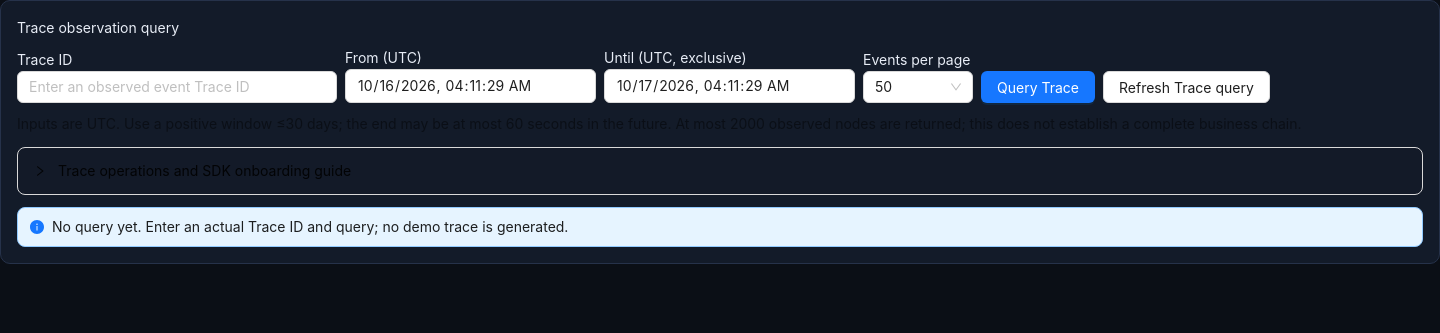
Scenario: Controlled Trace observation query › rejects an over30day draft before GET and explains UTC and node limits
This screenshot has width=1440, height=333.
In the field labelled "Trace ID": (177, 87) [17,71,337,103], type "sdk:observed-root"
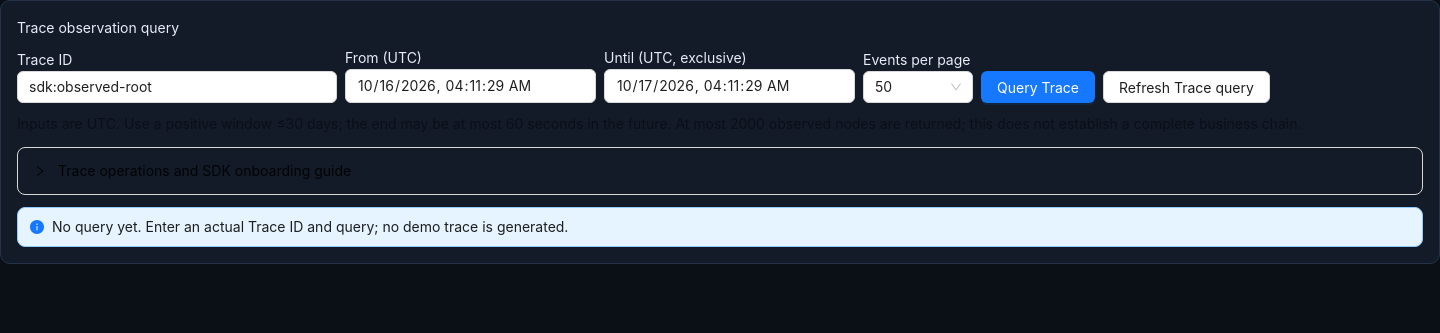
Replace the text in the field named "Trace from UTC" with "2026-09-19T10:00:00": (470, 86) [345,69,596,103]
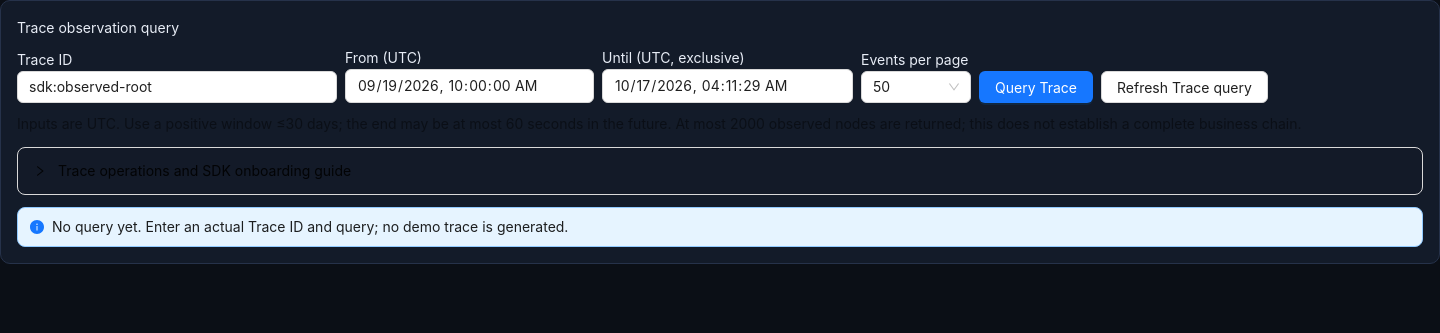
Replace the text in the field named "Trace until UTC" with "2026-09-20T10:00:00": (728, 86) [602,69,853,103]
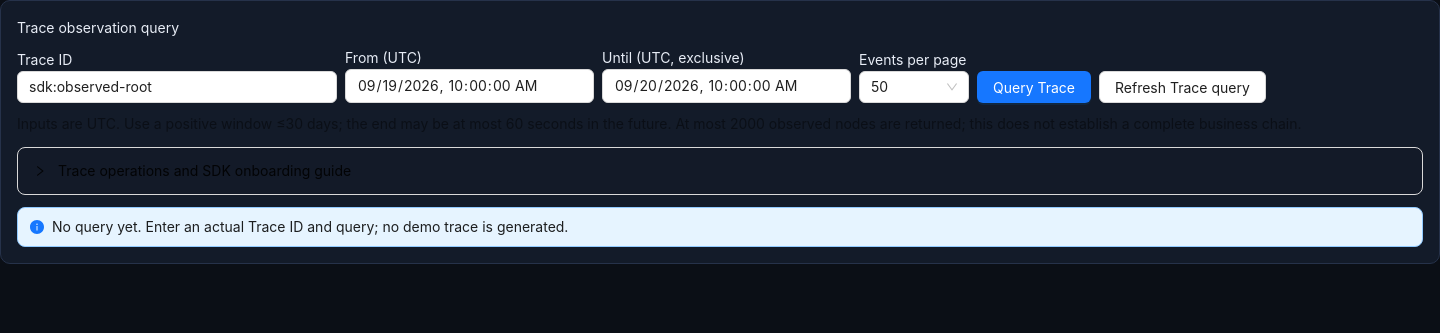
Replace the text in the field named "Trace from UTC" with "2026-08-01T10:00:00": (470, 86) [345,69,594,103]
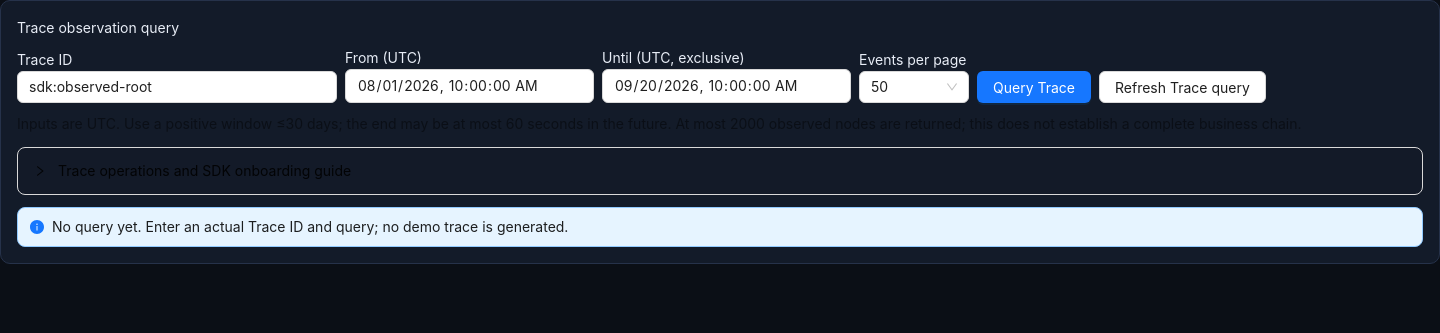
Click the button "Query Trace": (1034, 87) [977,71,1091,103]
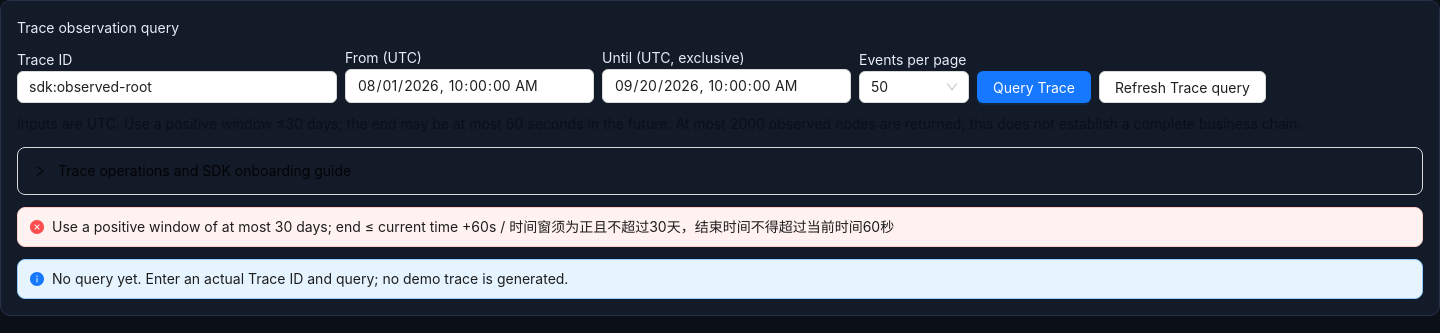
Expected: the text "Use a positive window of at most 30 days" is shown, [52,218,894,235]
